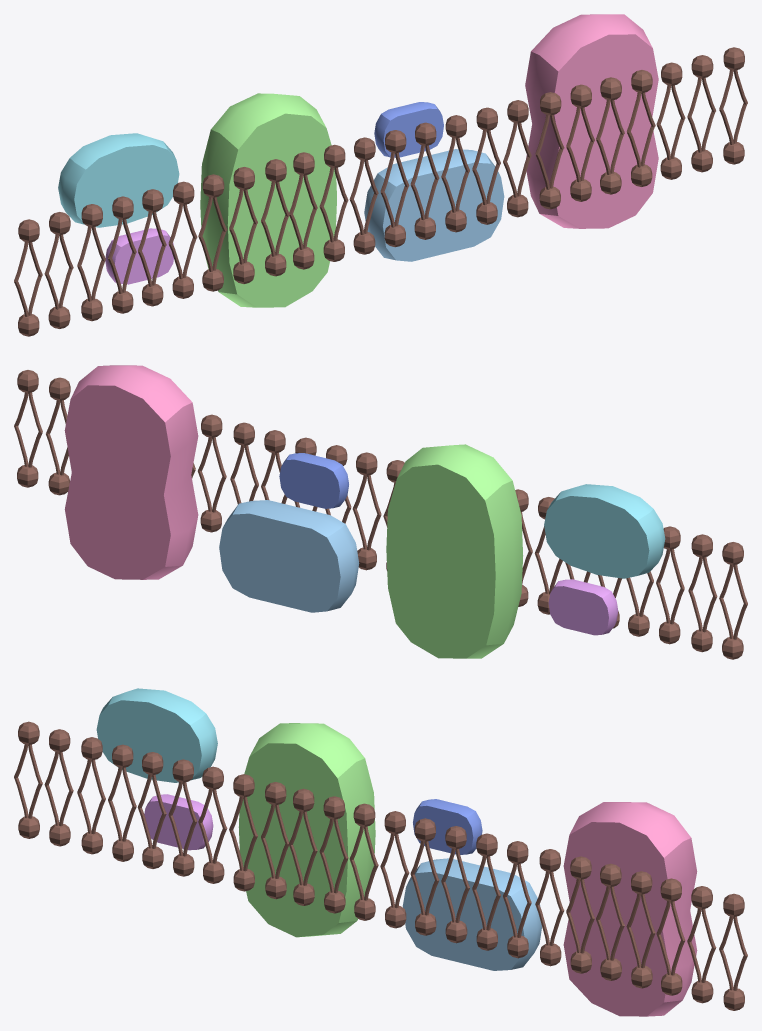
The model's file is Electron Transport ( no caption ).fbx.
3 views of the same model, one above another, from view 1: azimuth 30°, elevation 25°; view 2: azimuth 150°, elevation 25°; view 3: azimuth 330°, elevation 25° (orthographic).
Visible parts, largest first — view 1: pCube4, pCube9, pCube5, pCube10, pCube11, pCube8; view 2: pCube9, pCube4, pCube5, pCube10, pCube11, pCube8; view 3: pCube4, pCube9, pCube5, pCube10, pCube11, pCube8.
Part boxes in pixels (x1=…): pCube4: x1=525, y1=14, x2=658, y2=228; pCube9: x1=200, y1=93, x2=336, y2=307; pCube5: x1=364, y1=149, x2=504, y2=261; pCube10: x1=58, y1=133, x2=179, y2=227; pCube11: x1=105, y1=228, x2=173, y2=284; pCube8: x1=374, y1=102, x2=443, y2=157; pCube9: x1=386, y1=444, x2=523, y2=658; pCube4: x1=64, y1=365, x2=198, y2=579; pCube5: x1=219, y1=500, x2=359, y2=612; pCube10: x1=544, y1=484, x2=665, y2=578; pCube11: x1=548, y1=579, x2=618, y2=635; pCube8: x1=279, y1=453, x2=348, y2=508; pCube4: x1=563, y1=802, x2=697, y2=1016; pCube9: x1=238, y1=723, x2=375, y2=937; pCube5: x1=402, y1=858, x2=541, y2=970; pCube10: x1=96, y1=688, x2=217, y2=782; pCube11: x1=144, y1=794, x2=213, y2=850; pCube8: x1=413, y1=799, x2=482, y2=854.
Bounding box in the file's own units: 6.09 × 1.69 × 0.5538.
Materials: 2 (1 with a texture image).
